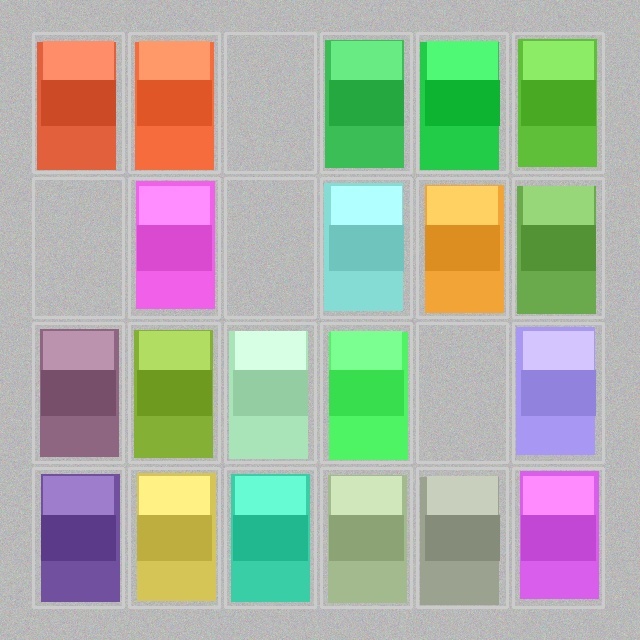space-empty: (227, 35, 313, 170), (35, 180, 121, 315), (227, 180, 313, 315), (419, 325, 505, 460)
space-occupied: (35, 35, 121, 170), (131, 35, 217, 170), (323, 35, 409, 170), (419, 35, 505, 170), (515, 35, 601, 170), (131, 180, 217, 315), (323, 180, 409, 315), (419, 180, 505, 315), (515, 180, 601, 315), (35, 325, 121, 460), (131, 325, 217, 460), (227, 325, 313, 460), (323, 325, 409, 460), (515, 325, 601, 460), (35, 470, 121, 605), (131, 470, 217, 605), (227, 470, 313, 605), (323, 470, 409, 605), (419, 470, 505, 605), (515, 470, 601, 605)
